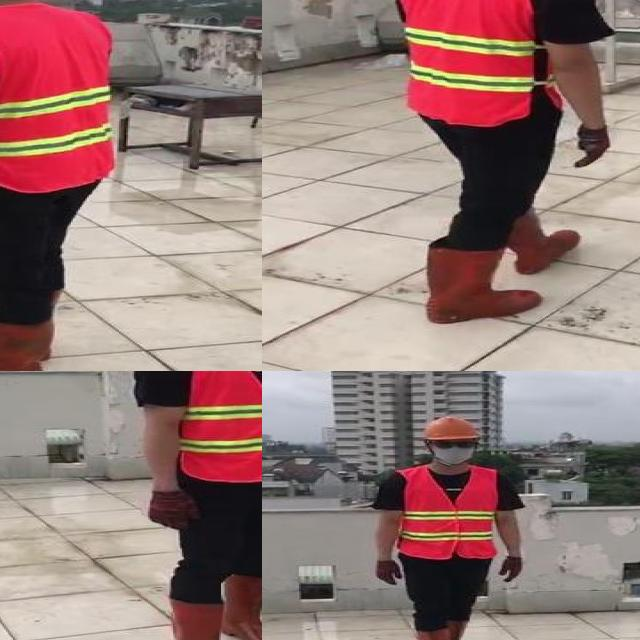boots: (426, 242, 540, 325), (506, 212, 580, 275), (167, 595, 262, 640), (0, 313, 51, 371), (222, 575, 262, 640), (445, 618, 477, 640)
face_mask: (430, 436, 476, 463)
glasses: (432, 438, 479, 451)
hand_glove: (146, 489, 202, 529), (573, 126, 612, 166), (376, 561, 408, 585), (500, 557, 525, 585)
head_helmet: (418, 414, 484, 442)
person: (391, 0, 628, 329), (0, 0, 120, 371), (365, 412, 534, 640), (126, 371, 262, 640)
vest: (0, 5, 119, 192), (397, 0, 553, 127), (395, 467, 496, 561), (176, 371, 262, 481)
